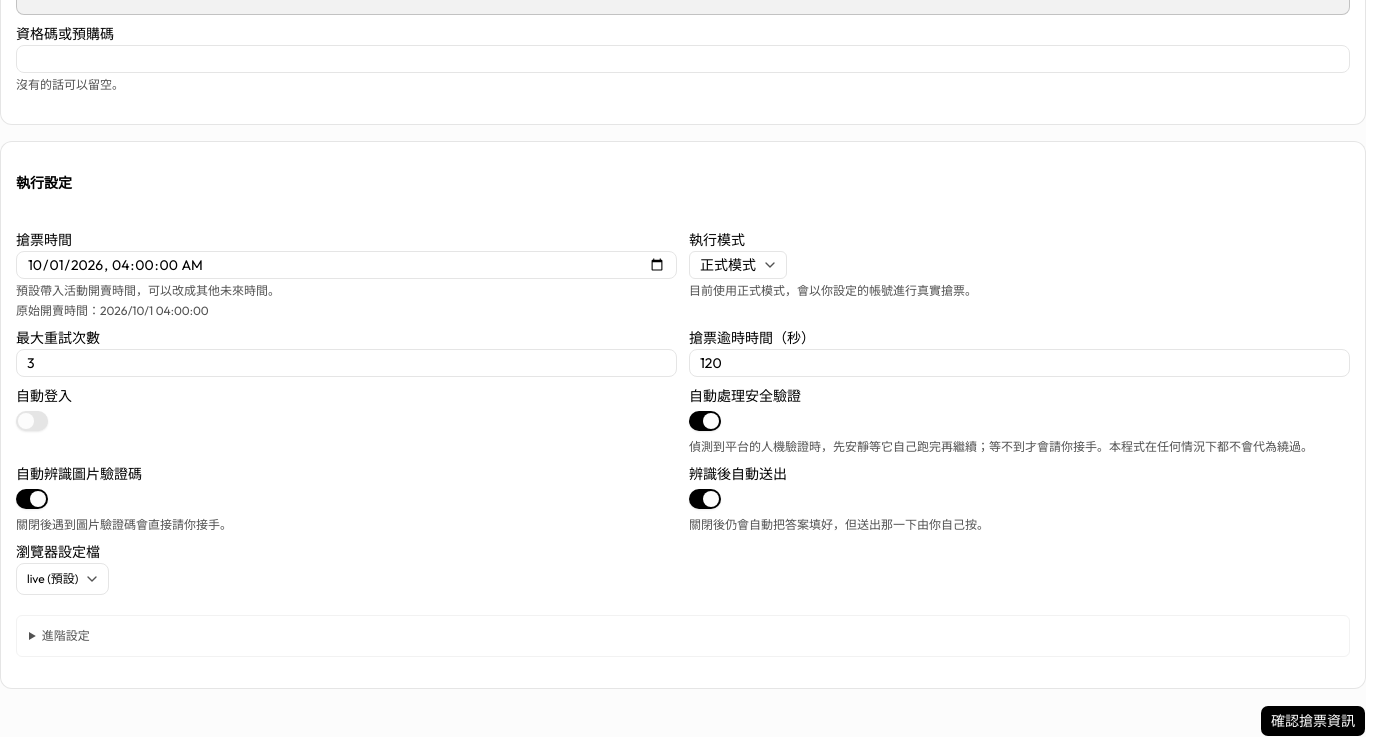
Scenario: 表單驗證與送出 › 欄位無效時阻止進入確認狀態、不送 API，並把焦點移到第一個錯誤欄位
(page scrolled)
Expected: the field labelled "搶票時間" is shown, x1=16 y1=250 x2=677 y2=278
Click the button "確認搶票資訊": (1313, 720) x1=1260 y1=704 x2=1366 y2=736
(page scrolled)
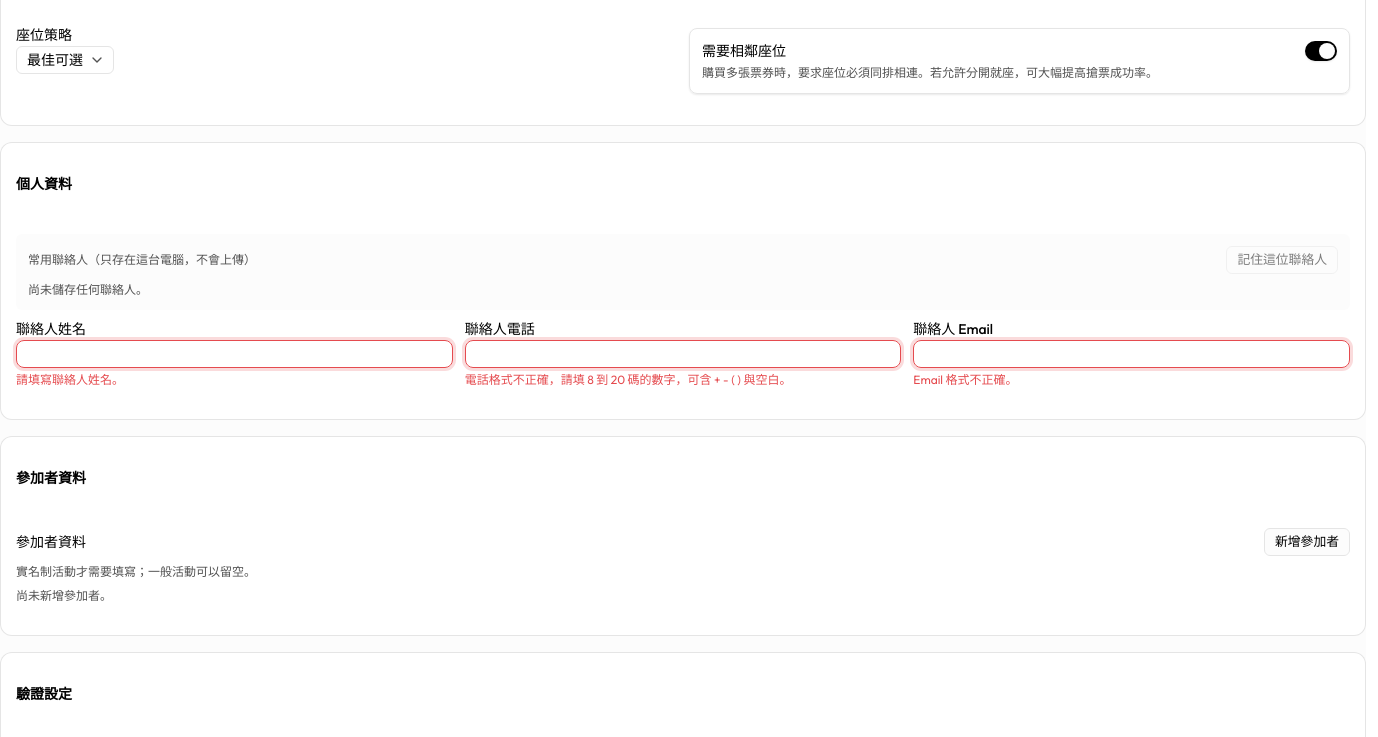
Result: the text "請填寫聯絡人姓名。" is shown at x1=16 y1=372 x2=124 y2=386
